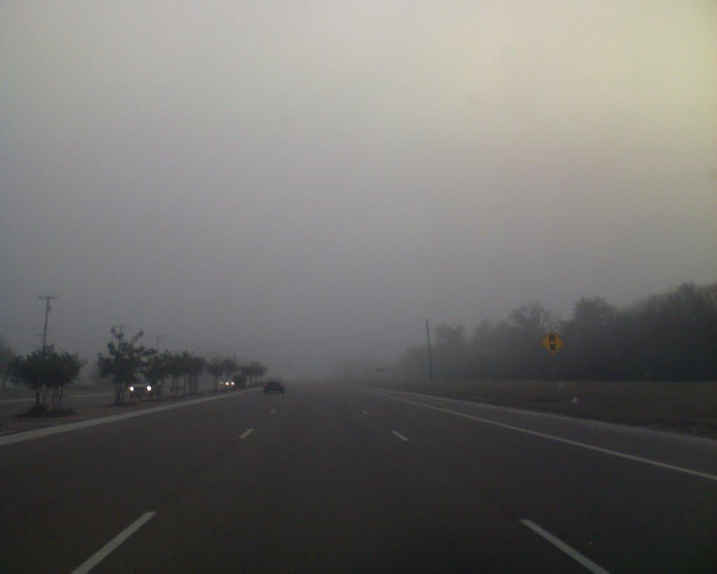car: (128, 372, 160, 401), (261, 375, 288, 394), (218, 374, 242, 389)
